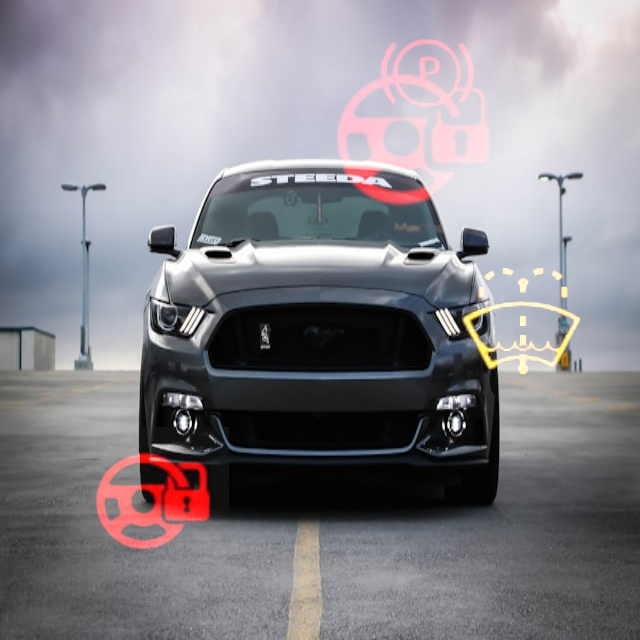symbol: (311, 36, 519, 244), (427, 227, 619, 419), (78, 427, 229, 578), (359, 7, 494, 142)
